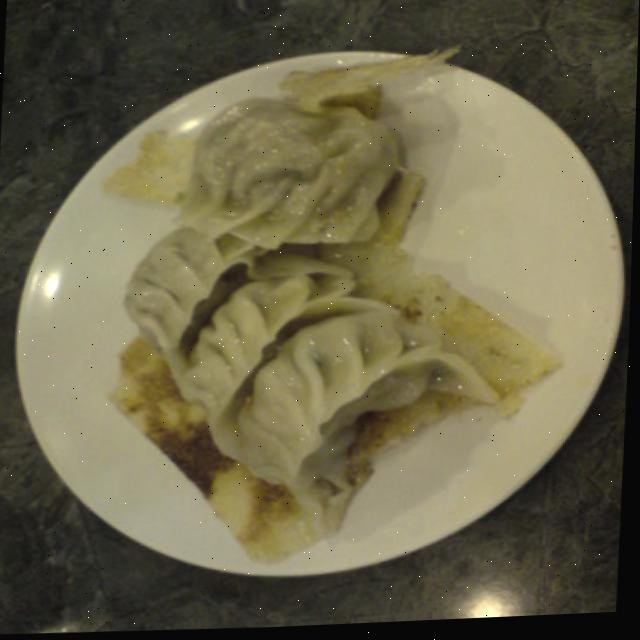带馅早点: (81, 53, 540, 572)
